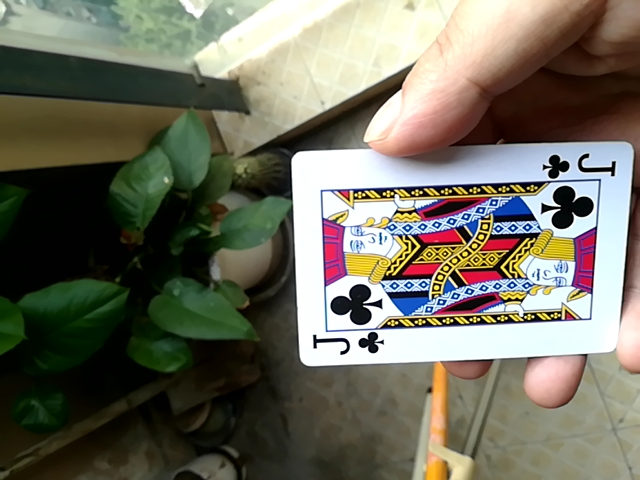mh j: (284, 137, 638, 366)
